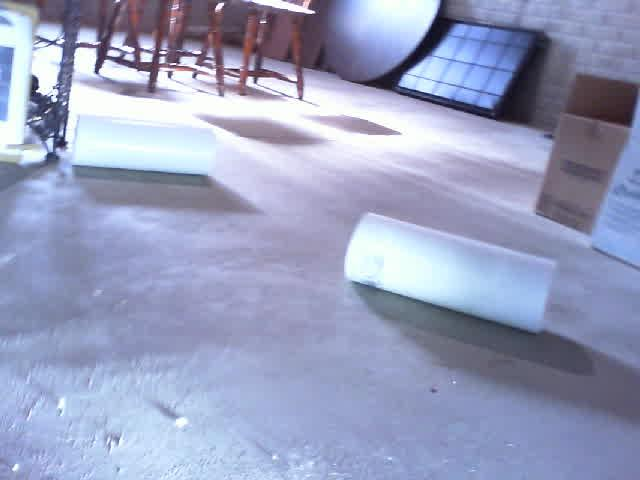coral: (343, 214, 557, 337), (71, 113, 217, 177)
